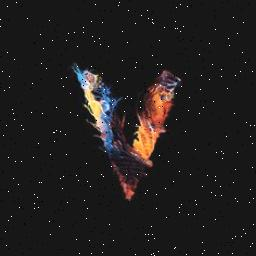v: (68, 62, 186, 202)
